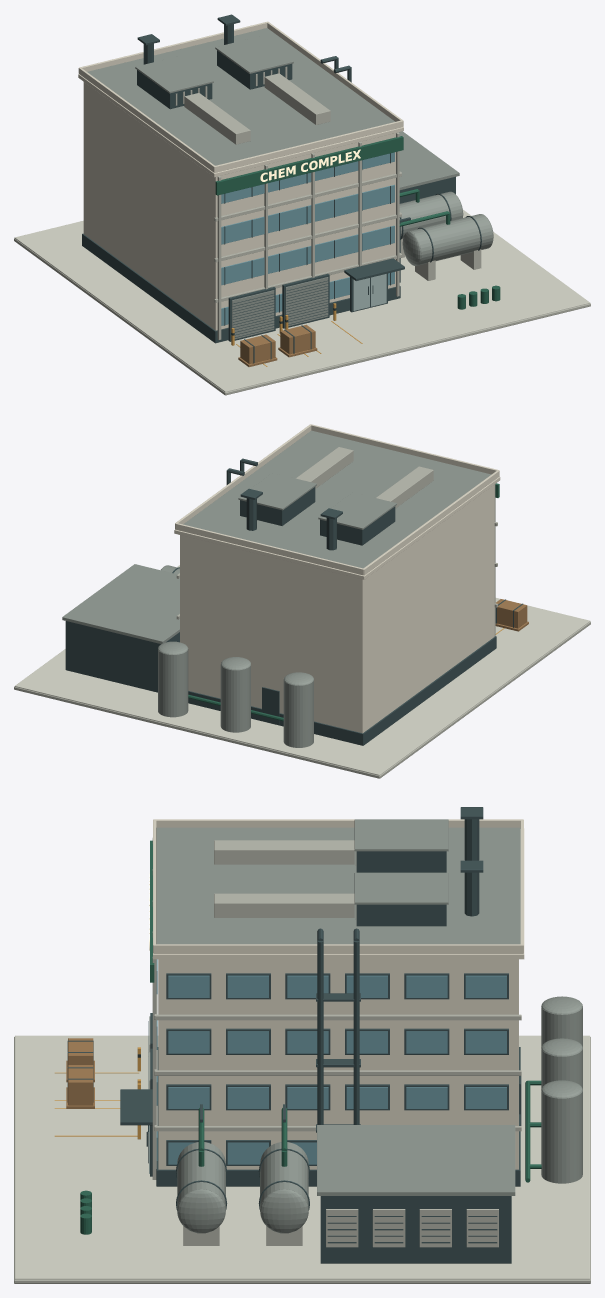
File: large-8x8-chemical-complex-08.glb
The picture shows the model from 3 angles, top to bottom: view 1: azimuth 30°, elevation 25°; view 2: azimuth 150°, elevation 25°; view 3: azimuth 270°, elevation 25°; orthographic projection. The views are drawn at different scales.
Visible parts, largest first — view 1: FourStoreyProduction, ConcreteYard, RoofDeck, FrontRibbonGlass.002, FrontRibbonGlass.001, HorizontalStorageVessel, BrandBand, ProductionPlinth, Lot_8x8, AnnexRoof, DockShutter.001, DockShutter (+28 smaller); view 2: FourStoreyProduction, ConcreteYard, RoofDeck, AnnexRoof, UtilityAnnex, ProductionPlinth, Lot_8x8, RearStorageTank.001, RearStorageTank, RearStorageTank.002, RoofCap, AirHandlingCap.001 (+11 smaller); view 3: ConcreteYard, FourStoreyProduction, RoofDeck, AnnexRoof, UtilityAnnex, RearStorageTank.002, RoofParapet.001, RoofDuct, RoofDuct.001, Lot_8x8, AirHandlingCap, AirHandlingCap.001 (+48 smaller).
Boxes of the visible parts, <box> form: FourStoreyProduction: <box>83,82,395,330</box>; ConcreteYard: <box>14,210,590,392</box>; RoofDeck: <box>87,28,394,165</box>; FrontRibbonGlass.002: <box>221,184,394,244</box>; FrontRibbonGlass.001: <box>221,225,394,285</box>; HorizontalStorageVessel: <box>410,214,492,265</box>; BrandBand: <box>215,136,403,195</box>; ProductionPlinth: <box>82,233,400,343</box>; Lot_8x8: <box>14,238,590,395</box>; AnnexRoof: <box>398,131,459,190</box>; DockShutter.001: <box>285,277,328,326</box>; DockShutter: <box>232,290,274,339</box>; FourStoreyProduction: <box>180,484,494,733</box>; ConcreteYard: <box>14,565,590,775</box>; RoofDeck: <box>183,430,491,568</box>; AnnexRoof: <box>62,564,179,643</box>; UtilityAnnex: <box>65,621,179,692</box>; ProductionPlinth: <box>188,636,496,745</box>; Lot_8x8: <box>14,621,590,778</box>; RearStorageTank.001: <box>220,664,250,732</box>; RearStorageTank: <box>283,680,313,747</box>; RearStorageTank.002: <box>158,649,188,717</box>; RoofCap: <box>174,476,500,579</box>; AirHandlingCap.001: <box>238,473,316,510</box>; ConcreteYard: <box>15,1035,589,1279</box>; FourStoreyProduction: <box>158,959,518,1169</box>; RoofDeck: <box>156,827,520,944</box>; AnnexRoof: <box>317,1125,515,1195</box>; UtilityAnnex: <box>320,1196,511,1263</box>; RearStorageTank.002: <box>541,1090,582,1183</box>; RoofParapet.001: <box>153,944,523,953</box>; RoofDuct: <box>214,840,354,864</box>; RoofDuct.001: <box>214,893,354,917</box>; Lot_8x8: <box>14,1036,590,1283</box>; AirHandlingCap: <box>354,819,448,851</box>; AirHandlingCap.001: <box>354,872,448,904</box>.
Size of the model in its own units: 32 by 17.71 by 32.
